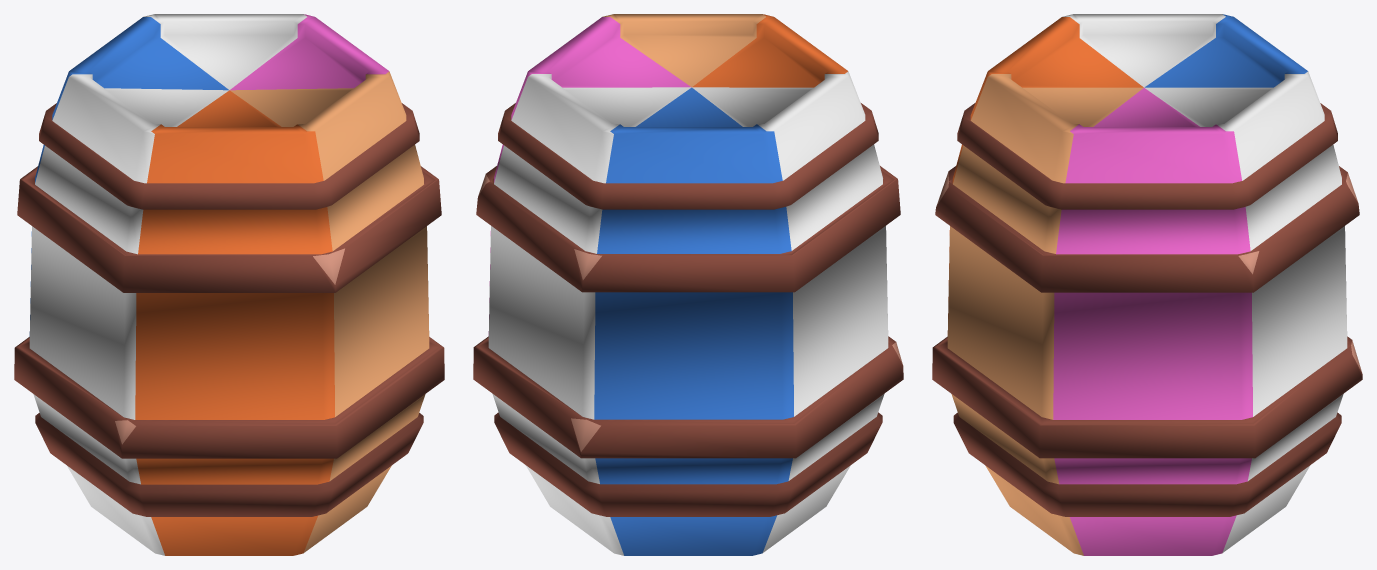
Rendered from barrel marshmallow 3combi.fbx.
The picture shows the model from 3 angles, left to right: view 1: azimuth 30°, elevation 25°; view 2: azimuth 150°, elevation 25°; view 3: azimuth 270°, elevation 25°; orthographic projection.
Parts seen in each view (by area): view 1: Cylinder; view 2: Cylinder; view 3: Cylinder.
Part boxes in pixels (x1,y1,x2,y2): Cylinder: [14, 14, 444, 555]; Cylinder: [473, 14, 903, 555]; Cylinder: [932, 14, 1362, 555].
Bounding box in the file's own units: 235 × 299 × 272.
